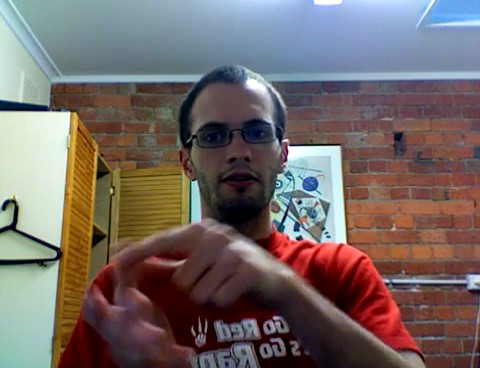E: (69, 210, 302, 368)
